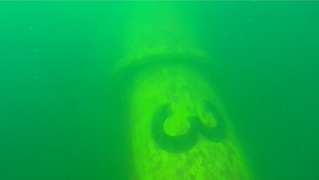3: (150, 97, 228, 153)
pipe: (109, 1, 255, 179)
